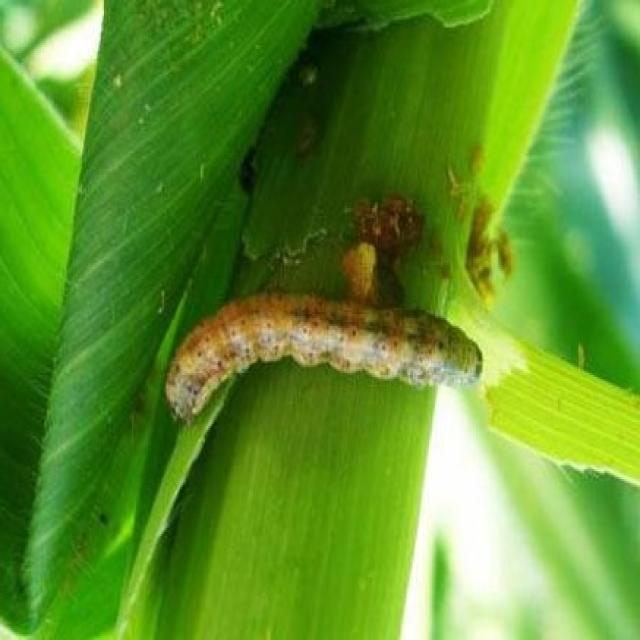army worm: (156, 285, 485, 420)
